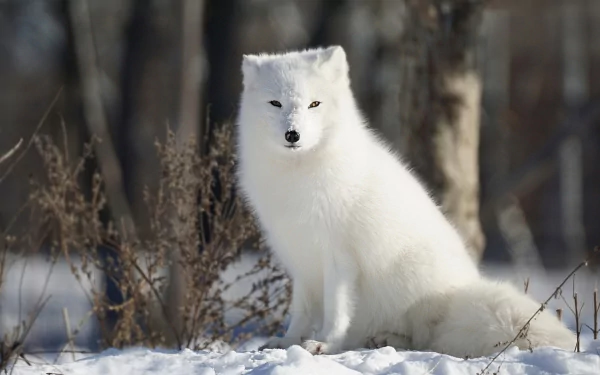arcticfox: (252, 78, 354, 189)
